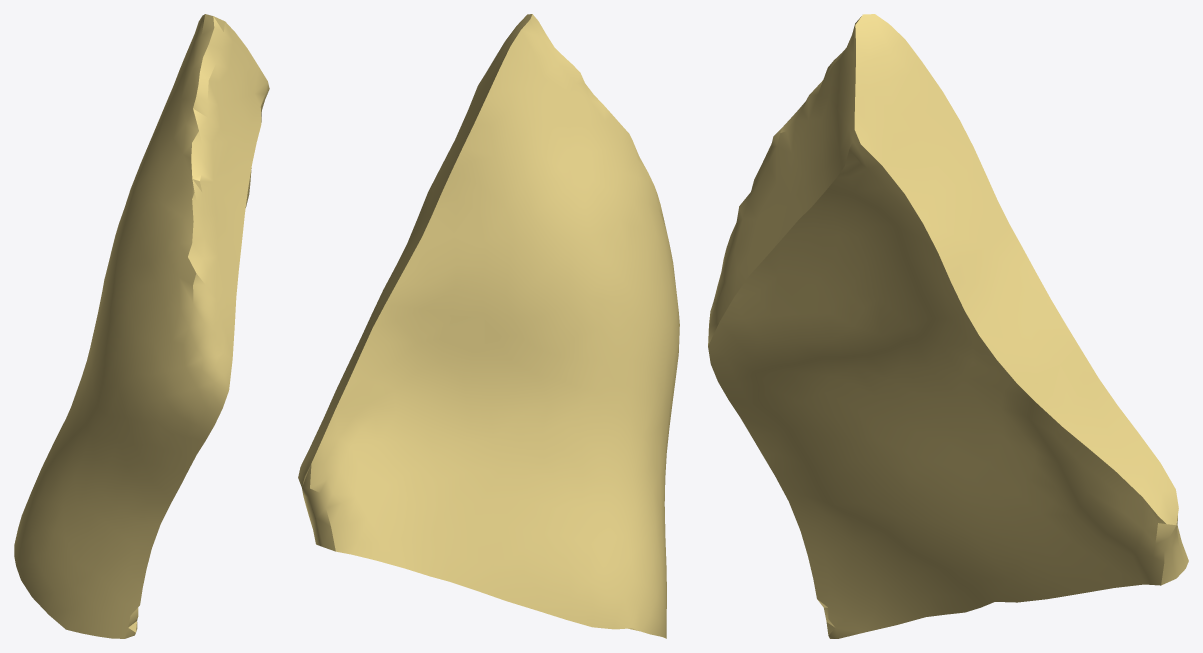
Rendered from fma327606-r_mm3406m.glb.
3 renders of one model, left to right at view 1: azimuth 30°, elevation 25°; view 2: azimuth 150°, elevation 25°; view 3: azimuth 270°, elevation 25°, orthographic. The views are drawn at different scales.
Visible parts, largest first — view 1: FMA327606-R_MM3406M; view 2: FMA327606-R_MM3406M; view 3: FMA327606-R_MM3406M.
Boxes of the visible parts, left/top/right/bottom form: FMA327606-R_MM3406M: left=14, top=14, right=269, bottom=638; FMA327606-R_MM3406M: left=298, top=14, right=679, bottom=638; FMA327606-R_MM3406M: left=708, top=14, right=1188, bottom=638.
Size of the model in its own units: 0.00275 by 0.00597 by 0.00384.
